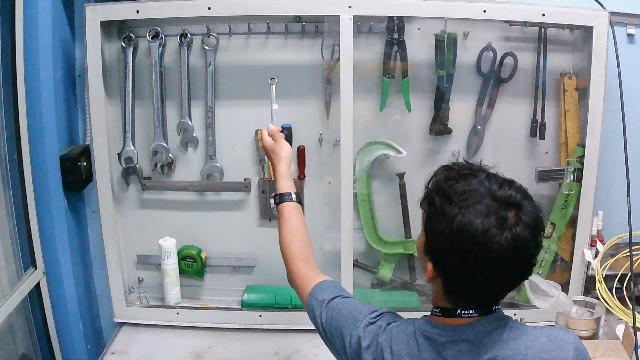kunci_pass_13: (253, 22, 298, 165)
